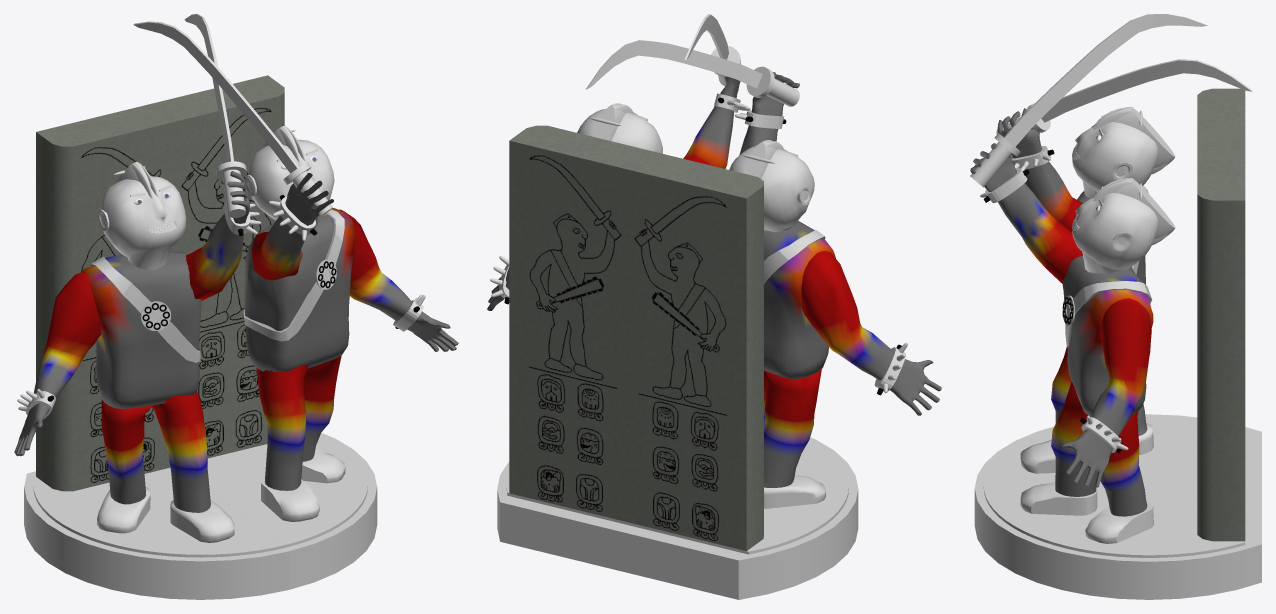
File: twins_artifact.fbx
The picture shows the model from 3 angles, left to right: view 1: azimuth 30°, elevation 25°; view 2: azimuth 150°, elevation 25°; view 3: azimuth 270°, elevation 25°; orthographic projection. The views are drawn at different scales.
Parts seen in each view (by area): view 1: Box012, Box002, body002, Stand2, body001, Stand_red, Stand_blue, arm_left002, head002, leg_right001, leg_right002, Stand1 (+17 smaller); view 2: Box012, Box002, Stand2, arm_left002, body002, Stand1, leg_left002, Stand_red, head002, Box014, arm_right001, head001 (+7 smaller); view 3: Box002, Stand1, Stand_blue, arm_left001, body001, Stand_red, head001, arm_right001, head002, Box003, Box014, leg_left001 (+15 smaller).
Boxes of the visible parts, <box> form: Box012: <box>36,103,176,491</box>; Box002: <box>152,75,284,458</box>; body002: <box>82,251,201,408</box>; Stand2: <box>24,471,289,599</box>; body001: <box>244,208,355,372</box>; Stand_red: <box>33,468,284,557</box>; Stand_blue: <box>207,435,367,547</box>; arm_left002: <box>14,271,101,456</box>; head002: <box>100,176,186,269</box>; leg_right001: <box>256,364,311,490</box>; leg_right002: <box>152,391,210,512</box>; Stand1: <box>284,433,377,589</box>; Box012: <box>628,151,763,550</box>; Box002: <box>509,125,652,522</box>; Stand2: <box>619,437,858,599</box>; arm_left002: <box>801,251,941,415</box>; body002: <box>764,221,835,379</box>; Stand1: <box>497,462,627,570</box>; leg_left002: <box>764,369,821,487</box>; Stand_red: <box>628,439,848,554</box>; head002: <box>729,146,814,232</box>; Box014: <box>586,40,762,89</box>; arm_right001: <box>683,76,740,168</box>; head001: <box>577,109,662,153</box>; Box002: <box>1197,144,1245,541</box>; Stand1: <box>974,488,1261,599</box>; Stand_blue: <box>983,485,1245,557</box>; arm_left001: <box>1062,298,1151,487</box>; body001: <box>1062,256,1153,416</box>; Stand_red: <box>983,415,1197,485</box>; head001: <box>1072,192,1158,273</box>; arm_right001: <box>970,143,1082,283</box>; head002: <box>1072,122,1158,198</box>; Box003: <box>1003,14,1207,146</box>; Box014: <box>1041,59,1252,122</box>; leg_left001: <box>1084,411,1147,516</box>.
Size of the model in its own units: 166 by 183 by 97.06.
